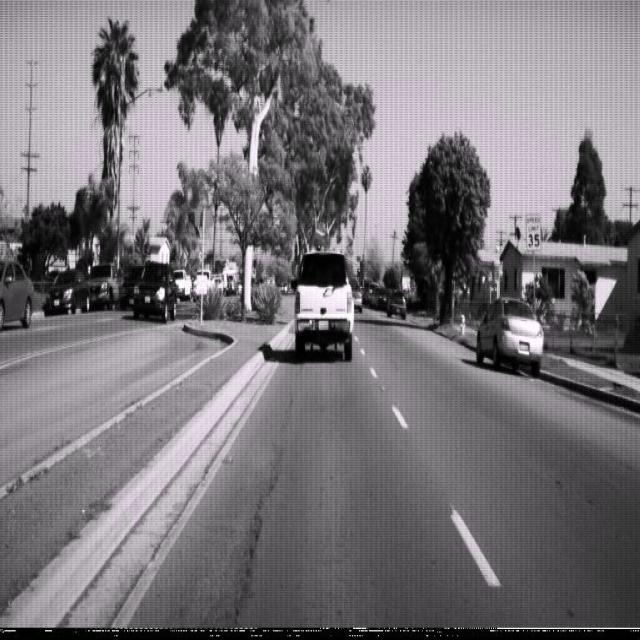speedLimit35: (525, 211, 542, 252)
